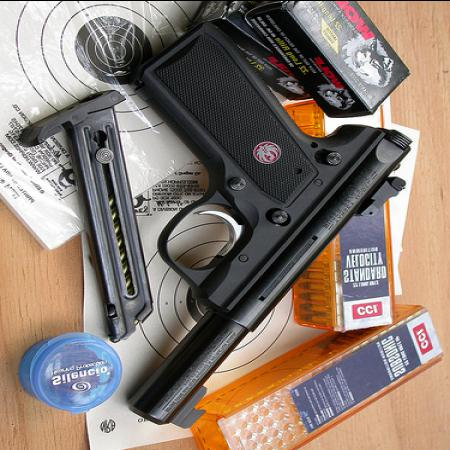Pistol: (128, 20, 414, 430)
